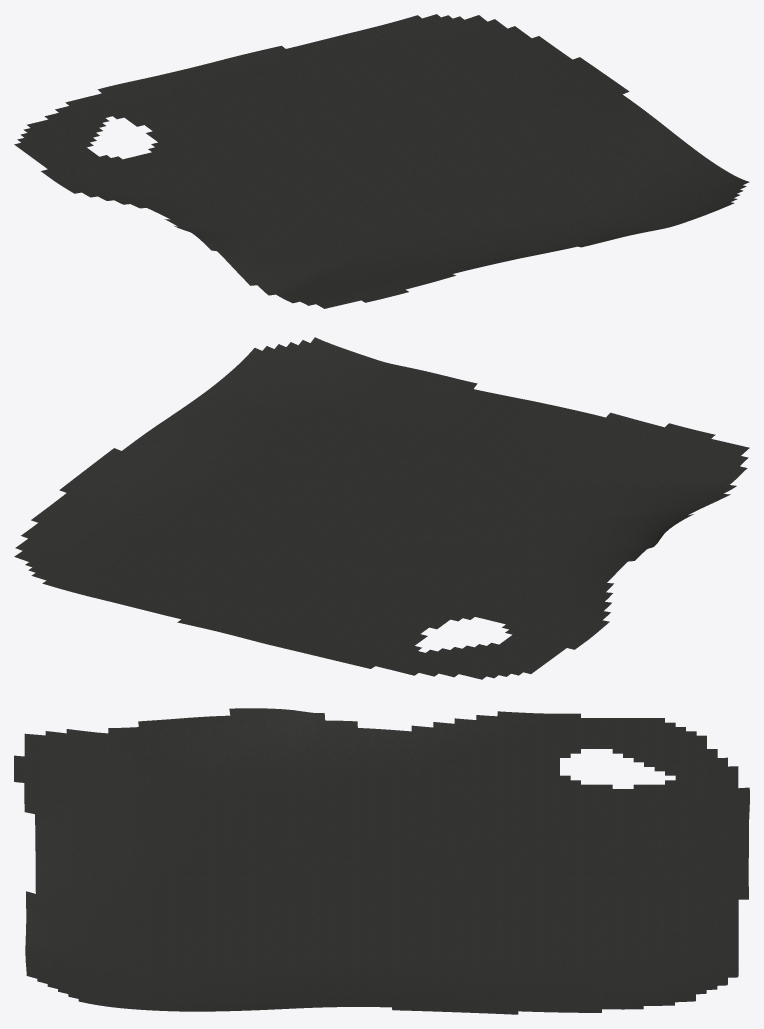
Rendered from cityLevel2.obj.
3 renders of one model, top to bottom at view 1: azimuth 30°, elevation 25°; view 2: azimuth 150°, elevation 25°; view 3: azimuth 270°, elevation 25°, orthographic. The views are drawn at different scales.
Visible parts, largest first — view 1: Plane.003_Plane.009; view 2: Plane.003_Plane.009; view 3: Plane.003_Plane.009.
Boxes of the visible parts, box(x1,y1,x2,y2) form: Plane.003_Plane.009: box(14, 14, 749, 308); Plane.003_Plane.009: box(14, 337, 749, 679); Plane.003_Plane.009: box(14, 708, 749, 1014).
Bounding box in the file's own units: 96.98 × 3.43 × 97.26.
